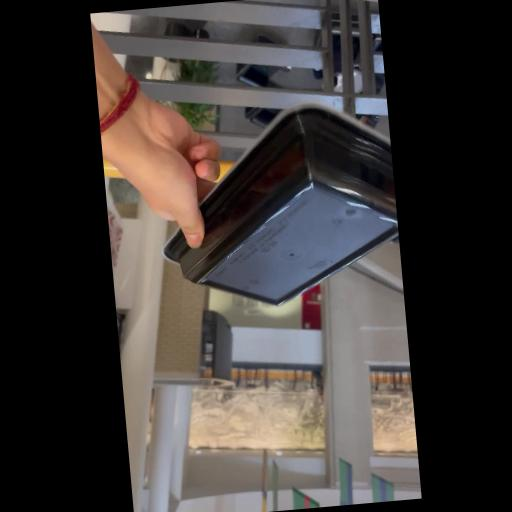rigid_plastic_container: (130, 86, 404, 322)
